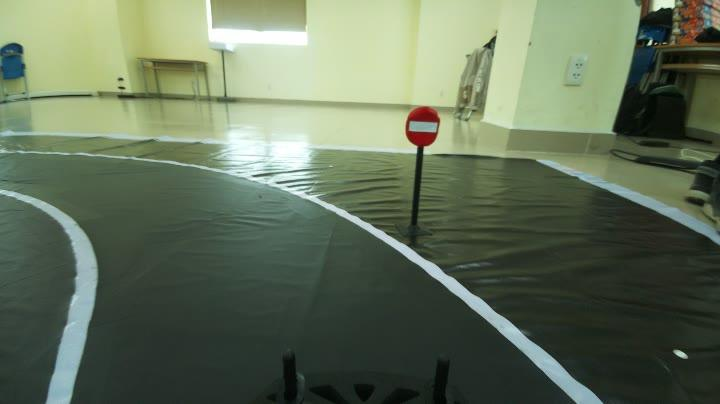no_entry: (406, 102, 446, 148)
